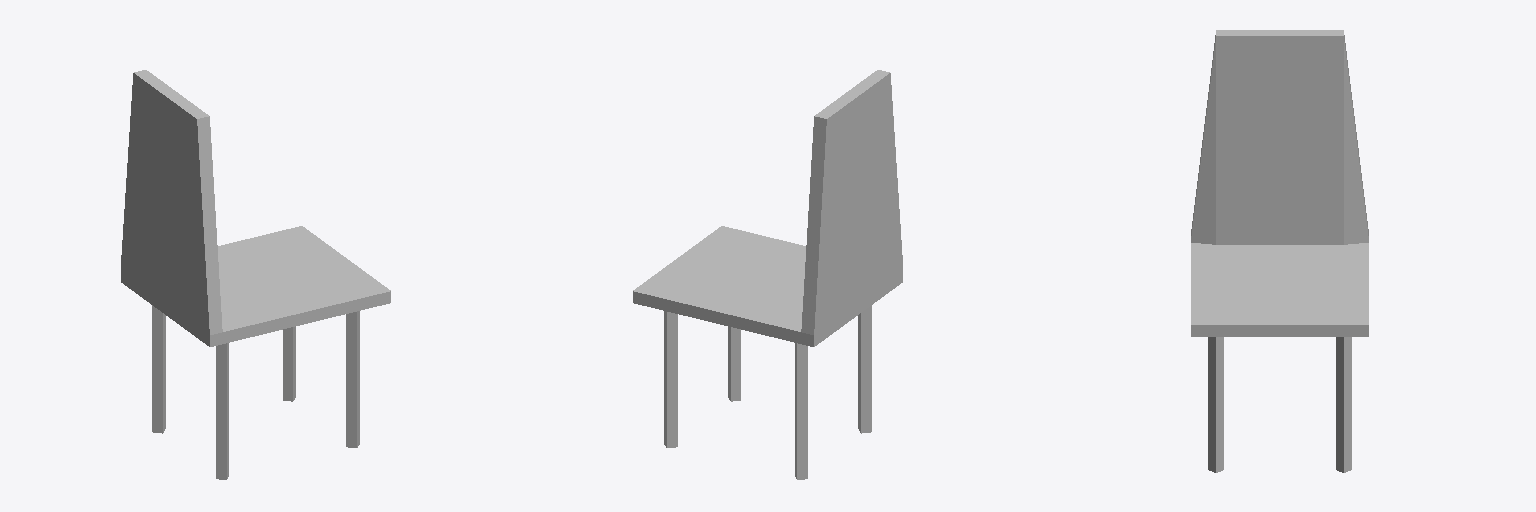
The model's file is chair.obj.
The picture shows the model from 3 angles: view 1: azimuth 30°, elevation 25°; view 2: azimuth 150°, elevation 25°; view 3: azimuth 270°, elevation 25°; orthographic projection.
Visible parts, largest first — view 1: chair_Cube.003; view 2: chair_Cube.003; view 3: chair_Cube.003.
Boxes of the visible parts, box(x1,y1,x2,y2) form: chair_Cube.003: box(121, 70, 390, 479); chair_Cube.003: box(633, 70, 902, 479); chair_Cube.003: box(1191, 30, 1368, 472).
Size of the model in its own units: 0.6411 by 1.23 by 0.5464.